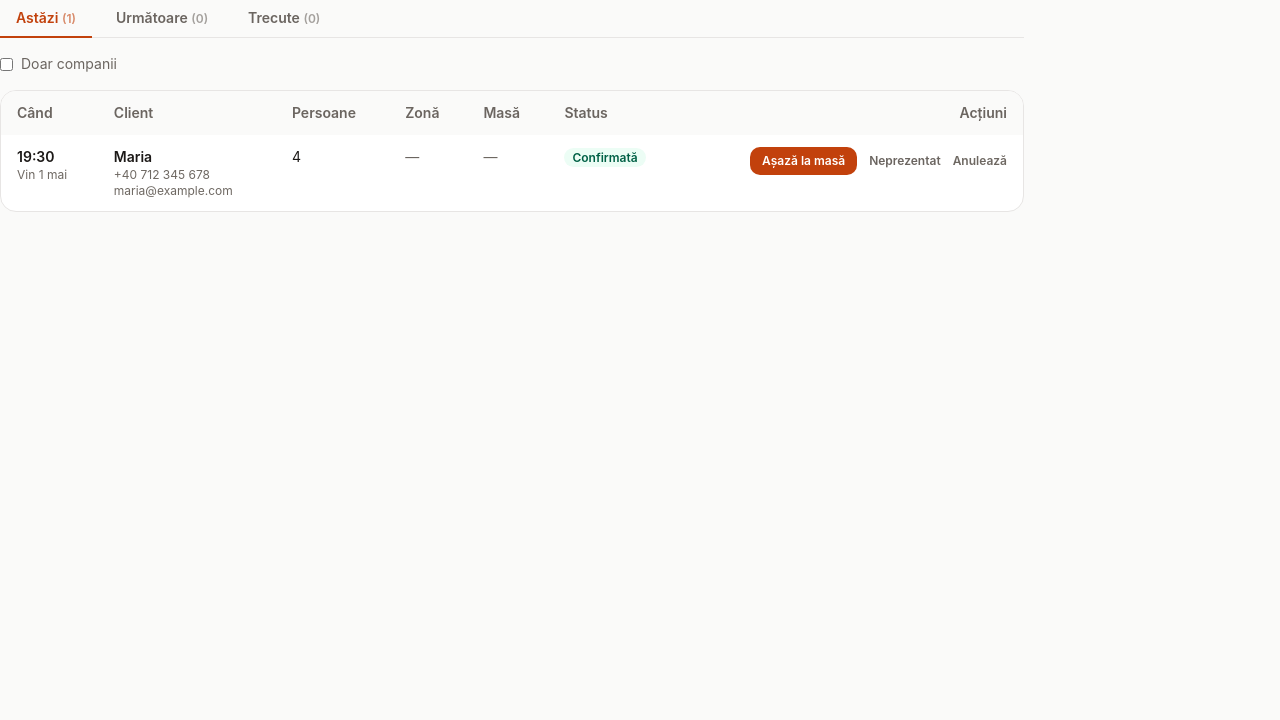
ReservationsList › clicking Cancel on a confirmed row opens the cancel sheet with that reservation
Click the button "Anulează": click(980, 161) 953,153 -> 1007,169
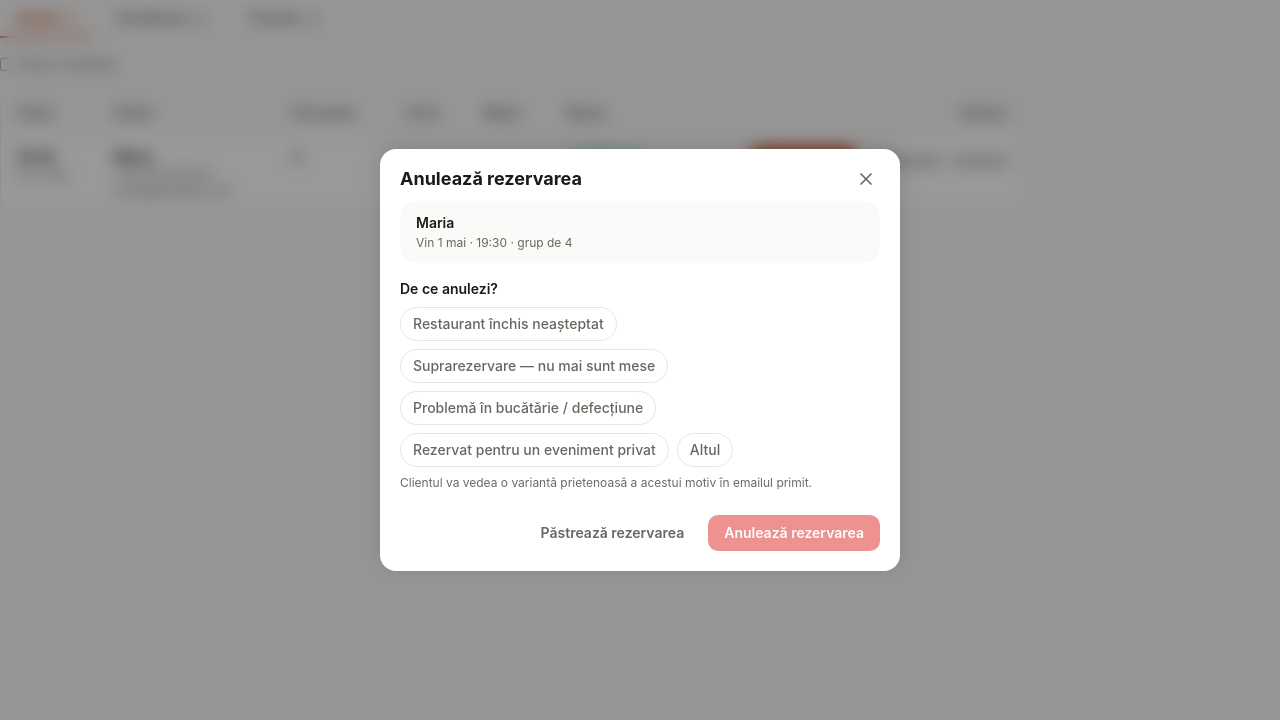
Result: the heading "Anulează rezervarea" is shown at 400,165 -> 582,193
Result: the text "Maria" is shown at 416,214 -> 454,231
Result: the text "Vin 1 mai · 19:30 · grup de 4" is shown at 416,235 -> 572,250
